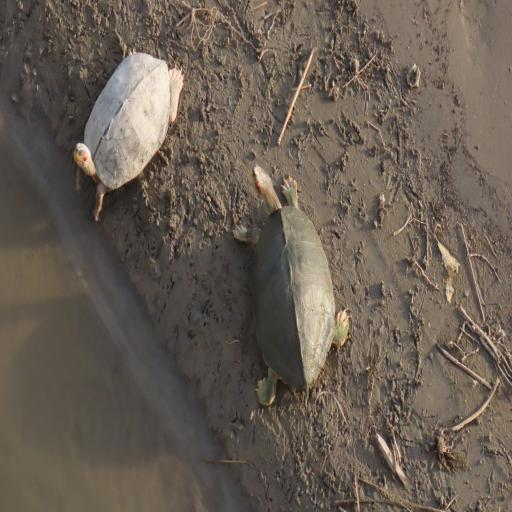turtle: (227, 150, 353, 416), (72, 13, 189, 225)
